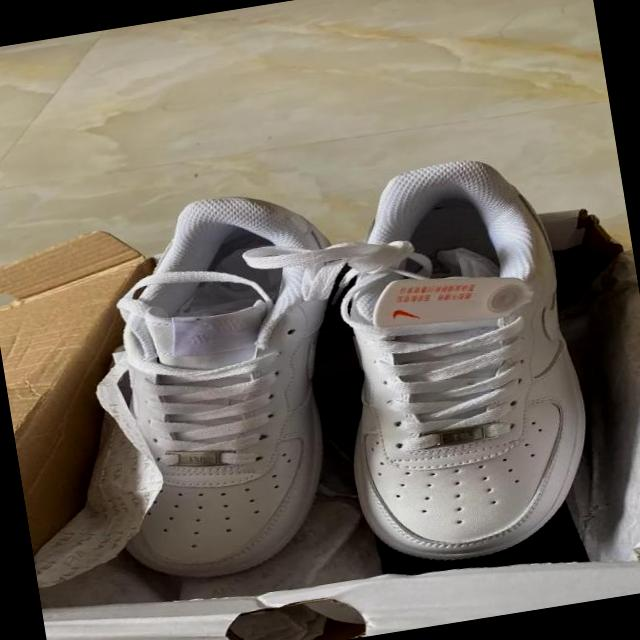nike_fake_airforce: (60, 177, 382, 594), (304, 142, 605, 574)
